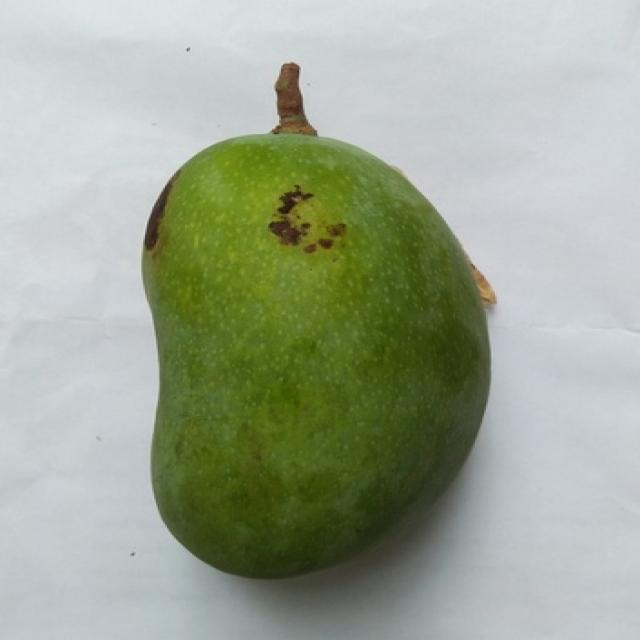Mango: (143, 134, 488, 578)
